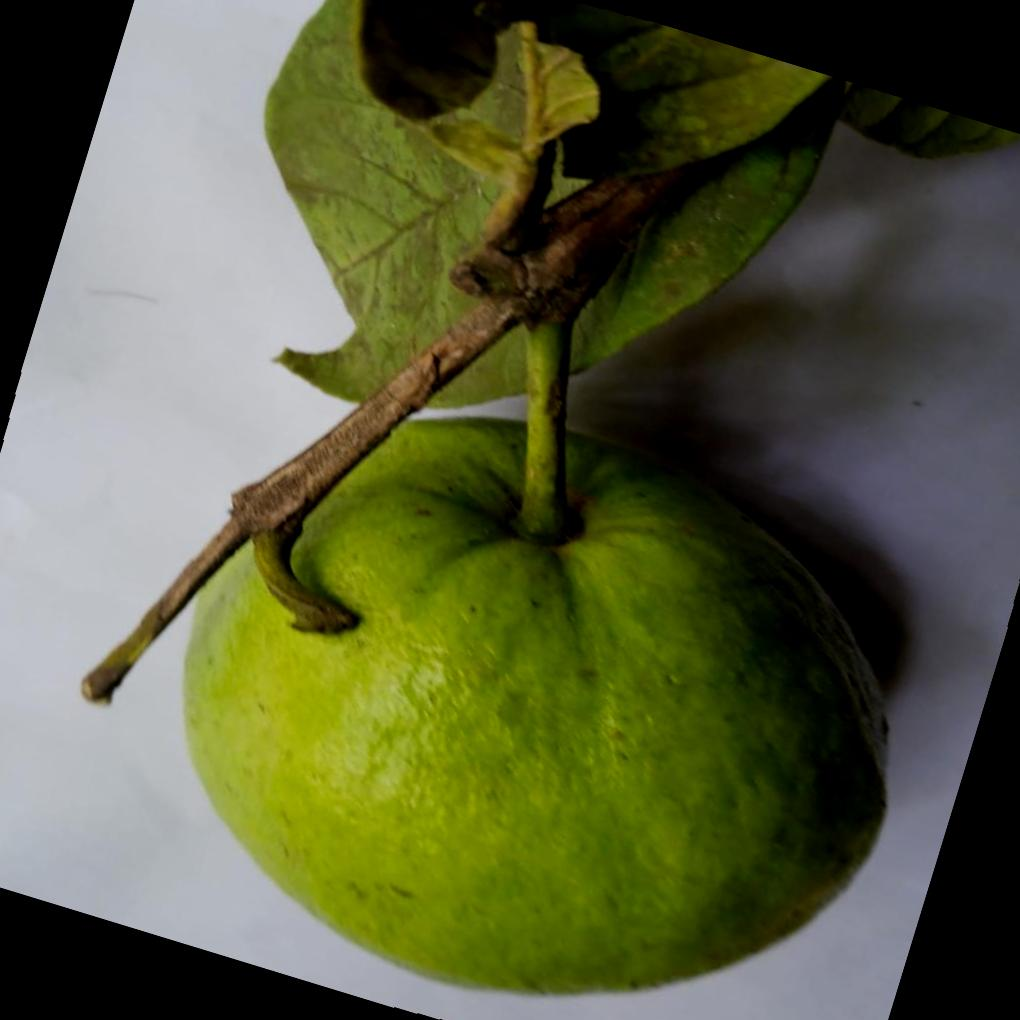FreshGuava: (179, 384, 892, 994)
